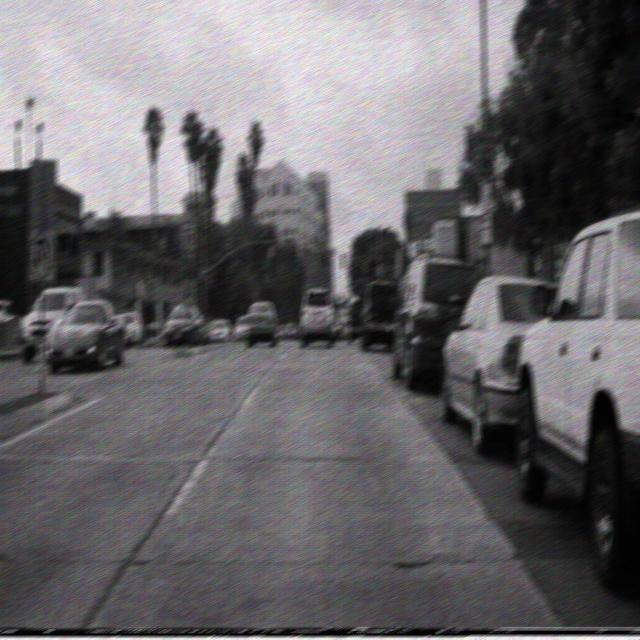speedLimit35: (472, 130, 497, 181), (179, 214, 197, 252)
